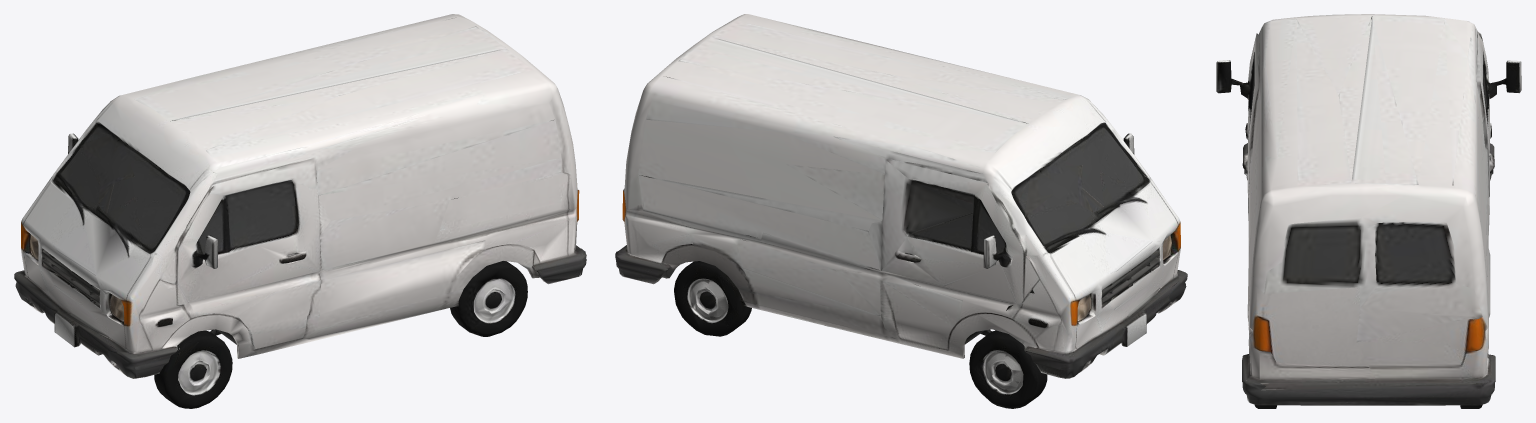
The model's file is van.glb.
3 views of the same model, side by side, from view 1: azimuth 30°, elevation 25°; view 2: azimuth 150°, elevation 25°; view 3: azimuth 270°, elevation 25° (orthographic). The views are drawn at different scales.
Size of the model in its own units: 1.9 by 0.9314 by 1.02.
1 material, 1 textured.
